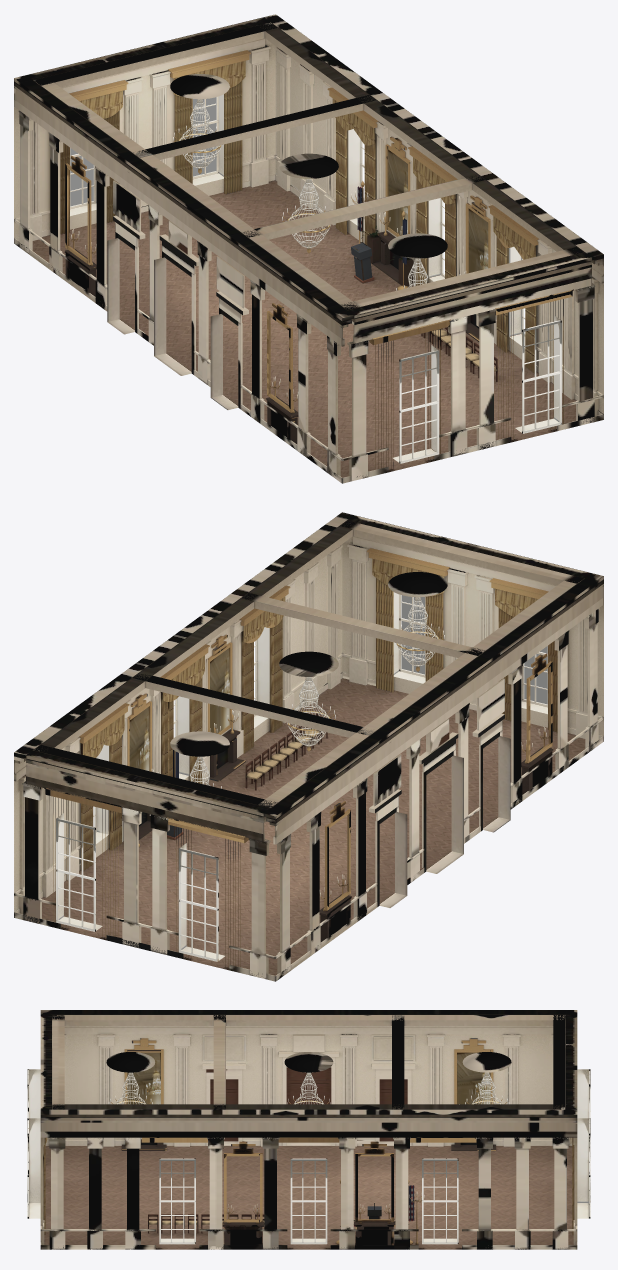
File: albright-east-room-2012.glb
The picture shows the model from 3 angles, top to bottom: view 1: azimuth 30°, elevation 25°; view 2: azimuth 150°, elevation 25°; view 3: azimuth 270°, elevation 25°; orthographic projection. The views are drawn at different scales.
Parts seen in each view (by area): view 1: orders, floor, artifact_gold_drapes, walls, door_trim, window_sashes, drape_cornices, ceiling_rosettes, daylight_windows, artifact_mirror_frame_3, mirror_glass_1, mirror_glass_0 (+7 smaller); view 2: orders, floor, artifact_gold_drapes, walls, door_trim, window_sashes, drape_cornices, ceiling_rosettes, daylight_windows, mirror_glass_0, artifact_mirror_frame_2, mirror_glass_1 (+7 smaller); view 3: orders, floor, walls, window_sashes, door_trim, artifact_doors, ceiling_rosettes, overdoor_panels, mirror_glass_2, mirror_glass_3, drape_cornices, artifact_mirror_frame_0 (+11 smaller).
Part boxes in pixels (x1=…): orders: x1=14, y1=14, x2=603, y2=483; floor: x1=32, y1=180, x2=576, y2=477; artifact_gold_drapes: x1=60, y1=60, x2=563, y2=469; walls: x1=14, y1=18, x2=603, y2=413; door_trim: x1=107, y1=180, x2=248, y2=409; window_sashes: x1=70, y1=94, x2=561, y2=463; drape_cornices: x1=69, y1=50, x2=573, y2=345; ceiling_rosettes: x1=170, y1=74, x2=447, y2=258; daylight_windows: x1=70, y1=97, x2=216, y2=206; artifact_mirror_frame_3: x1=65, y1=155, x2=91, y2=265; mirror_glass_1: x1=388, y1=150, x2=407, y2=235; mirror_glass_0: x1=468, y1=208, x2=488, y2=272; orders: x1=14, y1=512, x2=603, y2=981; floor: x1=41, y1=678, x2=585, y2=975; artifact_gold_drapes: x1=53, y1=558, x2=557, y2=967; walls: x1=14, y1=516, x2=603, y2=911; door_trim: x1=369, y1=678, x2=510, y2=907; window_sashes: x1=56, y1=592, x2=547, y2=961; drape_cornices: x1=44, y1=548, x2=548, y2=843; ceiling_rosettes: x1=170, y1=572, x2=447, y2=756; daylight_windows: x1=401, y1=595, x2=547, y2=704; mirror_glass_0: x1=210, y1=648, x2=229, y2=733; artifact_mirror_frame_2: x1=526, y1=653, x2=552, y2=763; mirror_glass_1: x1=129, y1=706, x2=149, y2=770; orders: x1=40, y1=1010, x2=577, y2=1249; floor: x1=44, y1=1145, x2=573, y2=1249; walls: x1=47, y1=1034, x2=572, y2=1140; window_sashes: x1=27, y1=1069, x2=590, y2=1244; door_trim: x1=202, y1=1034, x2=415, y2=1145; artifact_doors: x1=210, y1=1067, x2=407, y2=1141; ceiling_rosettes: x1=106, y1=1052, x2=511, y2=1072; overdoor_panels: x1=204, y1=1037, x2=413, y2=1059; mirror_glass_2: x1=127, y1=1052, x2=160, y2=1104; mirror_glass_3: x1=457, y1=1052, x2=490, y2=1104; drape_cornices: x1=141, y1=1137, x2=476, y2=1142; artifact_mirror_frame_0: x1=224, y1=1141, x2=262, y2=1222.
Size of the model in its own units: 12.75 by 6.73 by 26.5.
Materials: 7 (6 with a texture image).
